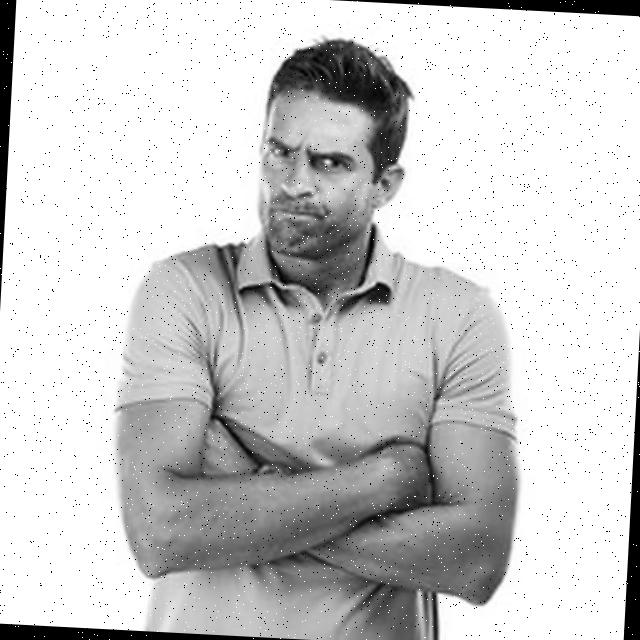Angry: (254, 96, 380, 262)
